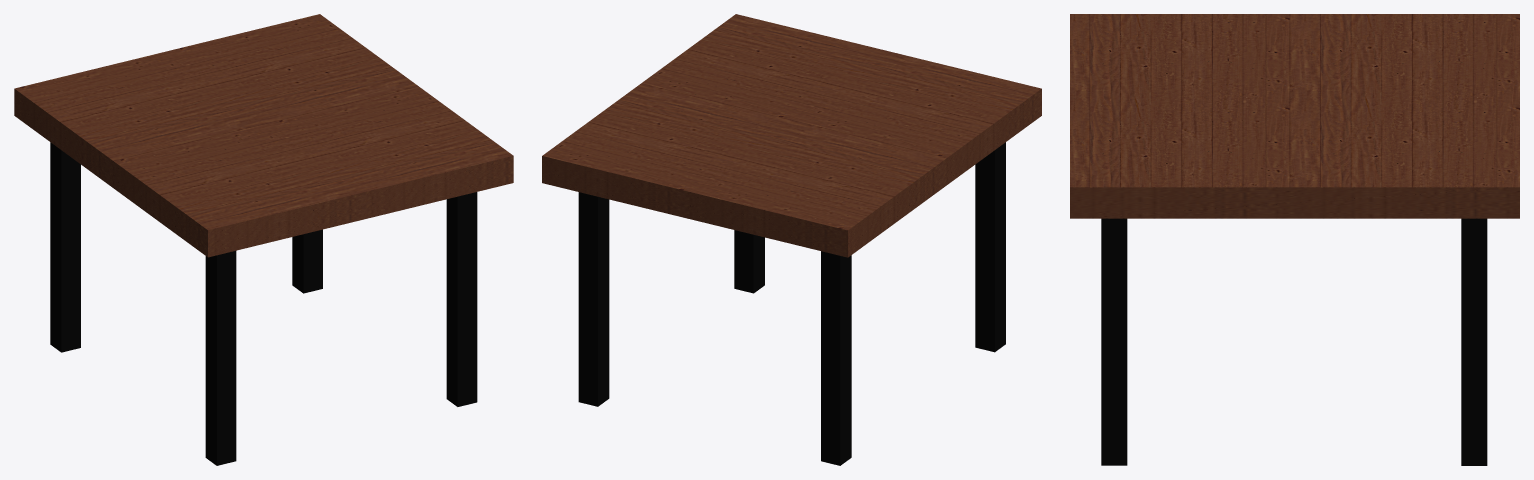
File: threejsTable.glb
The picture shows the model from 3 angles, left to right: view 1: azimuth 30°, elevation 25°; view 2: azimuth 150°, elevation 25°; view 3: azimuth 270°, elevation 25°; orthographic projection. The views are drawn at different scales.
Visible parts, largest first — view 1: tableFace, tableLegs; view 2: tableFace, tableLegs; view 3: tableFace, tableLegs.
Part boxes in pixels (x1=…): tableFace: x1=14, y1=14, x2=513, y2=257; tableLegs: x1=50, y1=142, x2=477, y2=465; tableFace: x1=542, y1=14, x2=1041, y2=257; tableLegs: x1=578, y1=142, x2=1005, y2=465; tableFace: x1=1070, y1=14, x2=1519, y2=218; tableLegs: x1=1101, y1=218, x2=1487, y2=465.
Bounding box in the file's own units: 15.66 × 12.29 × 17.2.
Materials: 2 (1 with a texture image).
